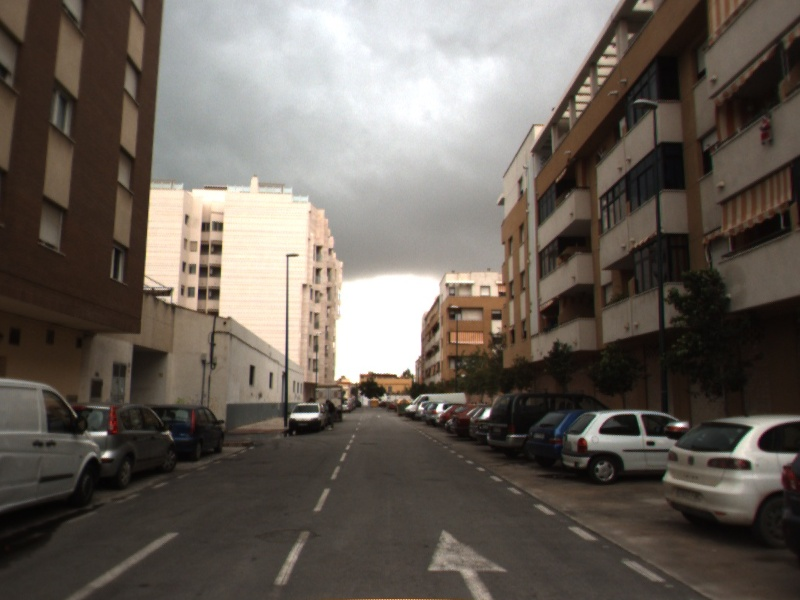STRAIGHT: (424, 527, 512, 600)
